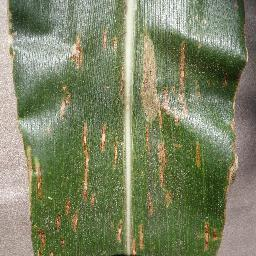Gray_Leaf_Spot: (227, 46, 250, 181), (162, 36, 190, 127), (138, 28, 162, 126), (154, 129, 177, 211), (22, 145, 43, 200), (3, 0, 20, 61), (79, 115, 90, 206), (196, 219, 223, 256), (142, 129, 153, 216), (55, 194, 77, 234), (64, 27, 84, 68), (57, 82, 75, 120), (30, 223, 49, 255), (113, 59, 124, 113), (100, 25, 118, 56), (218, 182, 232, 218), (133, 221, 147, 256), (49, 236, 67, 256), (98, 115, 107, 153), (193, 136, 202, 172), (110, 219, 122, 246), (109, 136, 119, 165), (91, 190, 99, 212)
